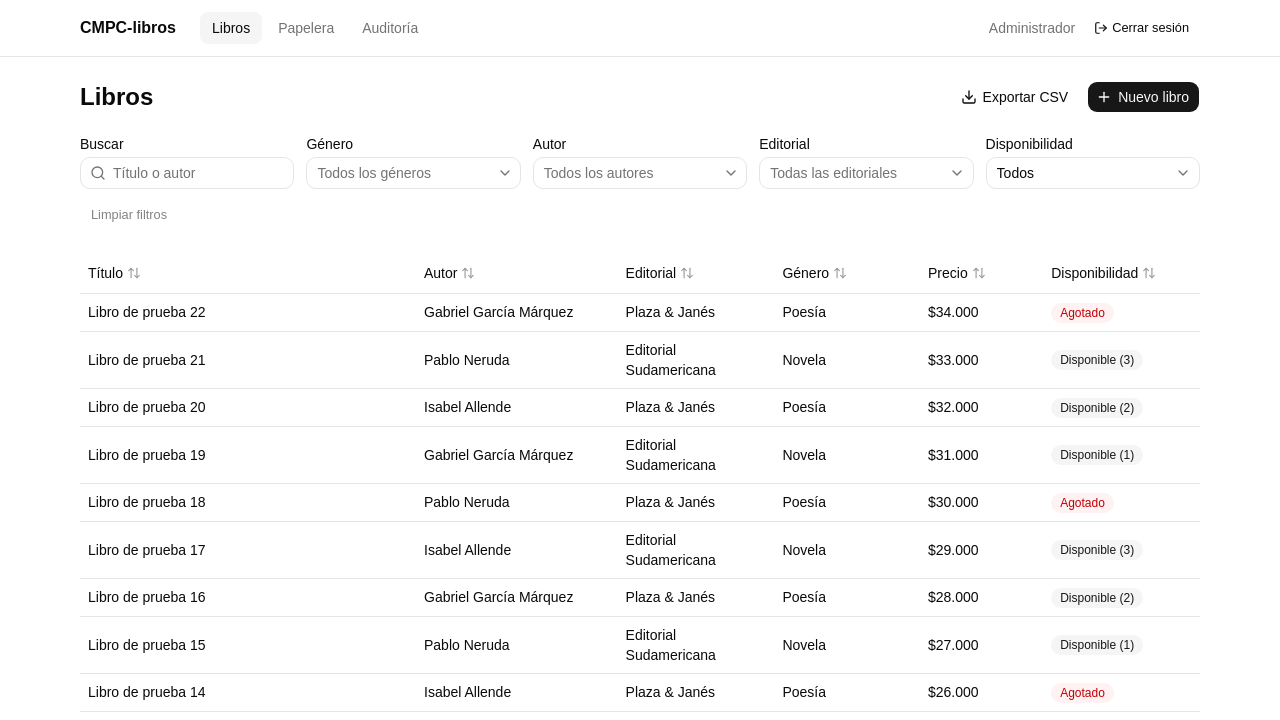
Test: rutas de la aplicación › cierra sesión y vuelve a /login
Click the button "Cerrar sesión".
click(1144, 28)  # box x1=1087 y1=14 x2=1200 y2=42
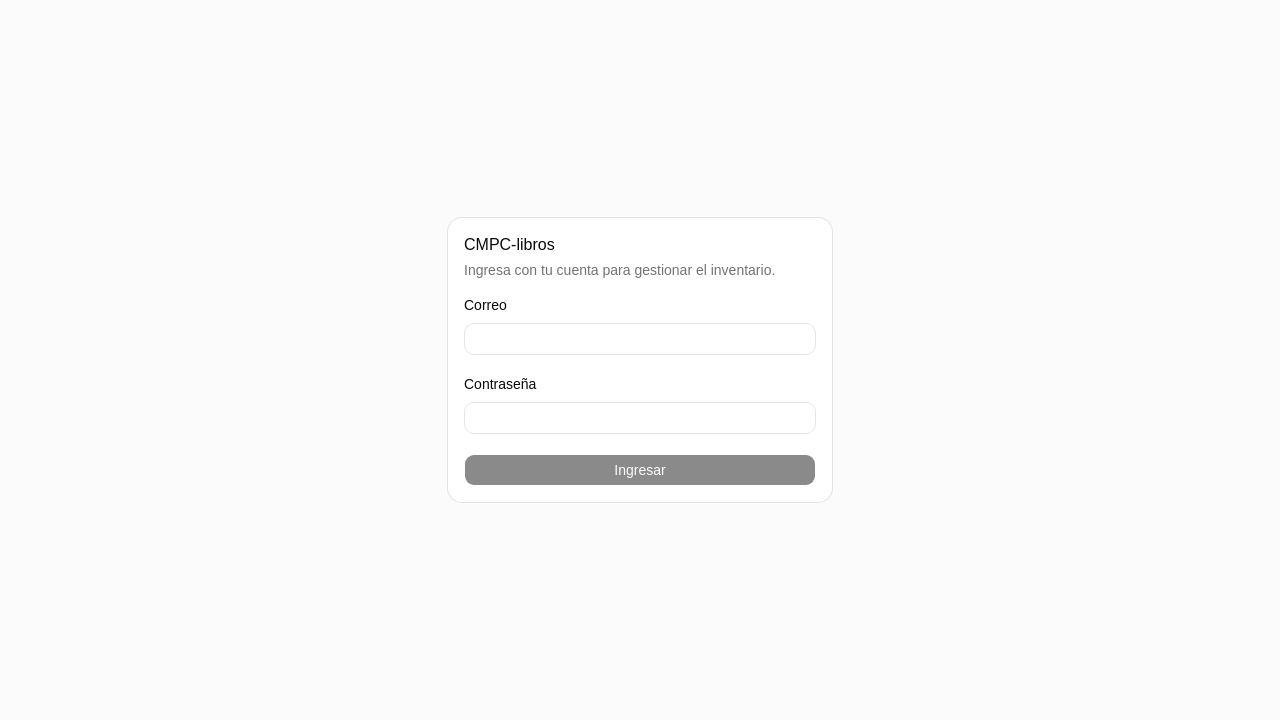
Expected: the button "Ingresar" is shown, x1=464 y1=454 x2=816 y2=486
